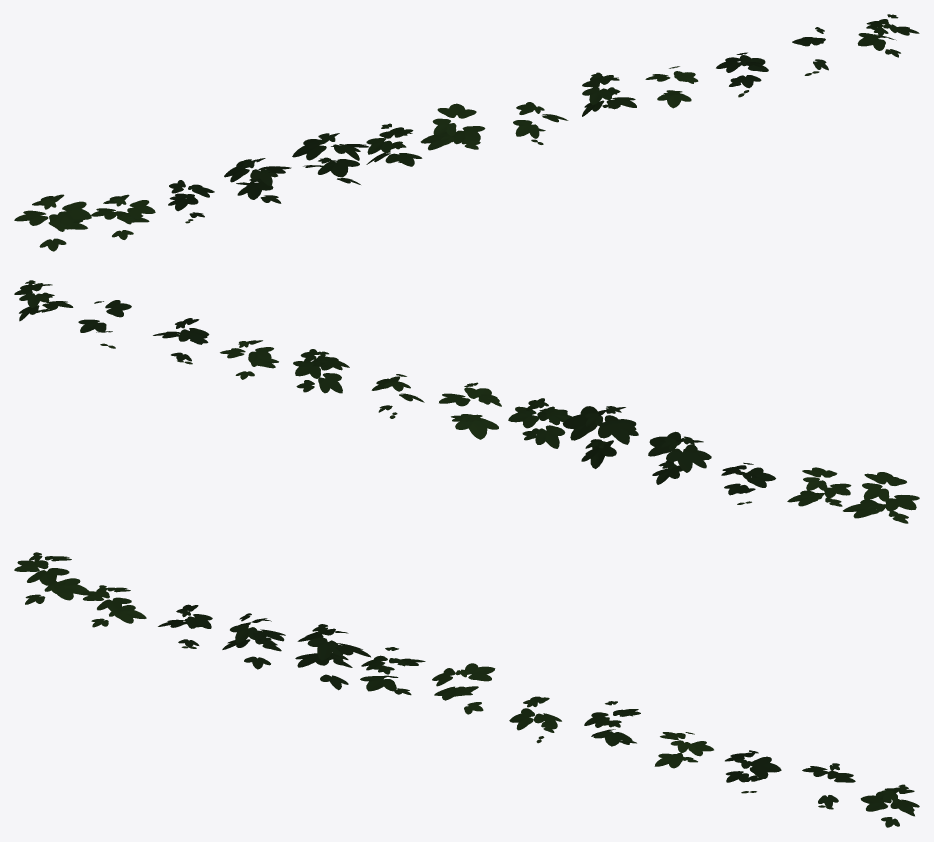
Rendered from ROW_12_SEG5_foliage.dae.
3 views of the same model, one above another, from view 1: azimuth 30°, elevation 25°; view 2: azimuth 150°, elevation 25°; view 3: azimuth 330°, elevation 25° (orthographic). The views are drawn at different scales.
Parts seen in each view (by area): view 1: ROW_12_SEG5_foliage; view 2: ROW_12_SEG5_foliage; view 3: ROW_12_SEG5_foliage.
Boxes of the visible parts, bbox=[...] form: ROW_12_SEG5_foliage: bbox=[14, 14, 919, 251]; ROW_12_SEG5_foliage: bbox=[14, 280, 919, 523]; ROW_12_SEG5_foliage: bbox=[14, 552, 919, 827].
Size of the model in its own units: 3.92 by 0.3045 by 0.2548.
